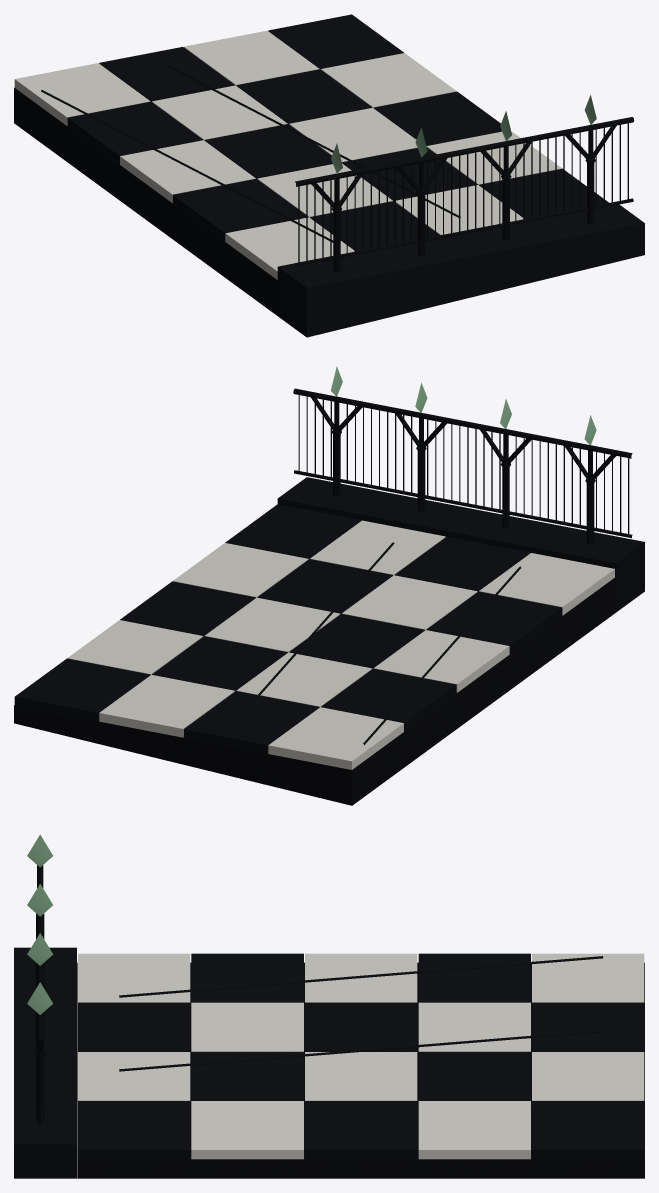
Rendered from v4_ramp.glb.
3 renders of one model, top to bottom at view 1: azimuth 30°, elevation 25°; view 2: azimuth 150°, elevation 25°; view 3: azimuth 270°, elevation 25°, orthographic. The views are drawn at different scales.
Visible parts, largest first — view 1: Pavers_B, Pavers_A, Ramp_Kerb, Guard_Frame, Ramp_Body, Root_Relief, Post_Leaf_Crests; view 2: Pavers_A, Pavers_B, Ramp_Body, Guard_Frame, Ramp_Kerb, Root_Relief, Post_Leaf_Crests; view 3: Pavers_B, Pavers_A, Ramp_Body, Ramp_Kerb, Root_Relief, Post_Leaf_Crests, Guard_Frame.
Boxes of the visible parts, x1,y1,x2,y2 form: Pavers_B: (67, 14, 608, 251); Pavers_A: (14, 30, 561, 279); Ramp_Kerb: (277, 204, 644, 337); Guard_Frame: (295, 117, 634, 272); Ramp_Body: (14, 87, 277, 315); Root_Relief: (41, 65, 460, 242); Post_Leaf_Crests: (331, 95, 596, 173); Pavers_A: (67, 520, 614, 769); Pavers_B: (14, 504, 562, 753); Ramp_Body: (14, 577, 615, 805); Guard_Frame: (293, 388, 632, 544); Ramp_Kerb: (277, 477, 644, 612); Root_Relief: (236, 542, 520, 744); Post_Leaf_Crests: (331, 366, 596, 445); Pavers_B: (78, 953, 644, 1159); Pavers_A: (78, 953, 644, 1159); Ramp_Body: (77, 962, 644, 1178); Ramp_Kerb: (14, 947, 76, 1178); Root_Relief: (119, 956, 603, 1071); Post_Leaf_Crests: (27, 834, 53, 1014); Guard_Frame: (35, 865, 44, 1127).
Size of what is drawn, in the model's own units: 4 by 1.98 by 6.
Materials: 4 (2 with a texture image).
